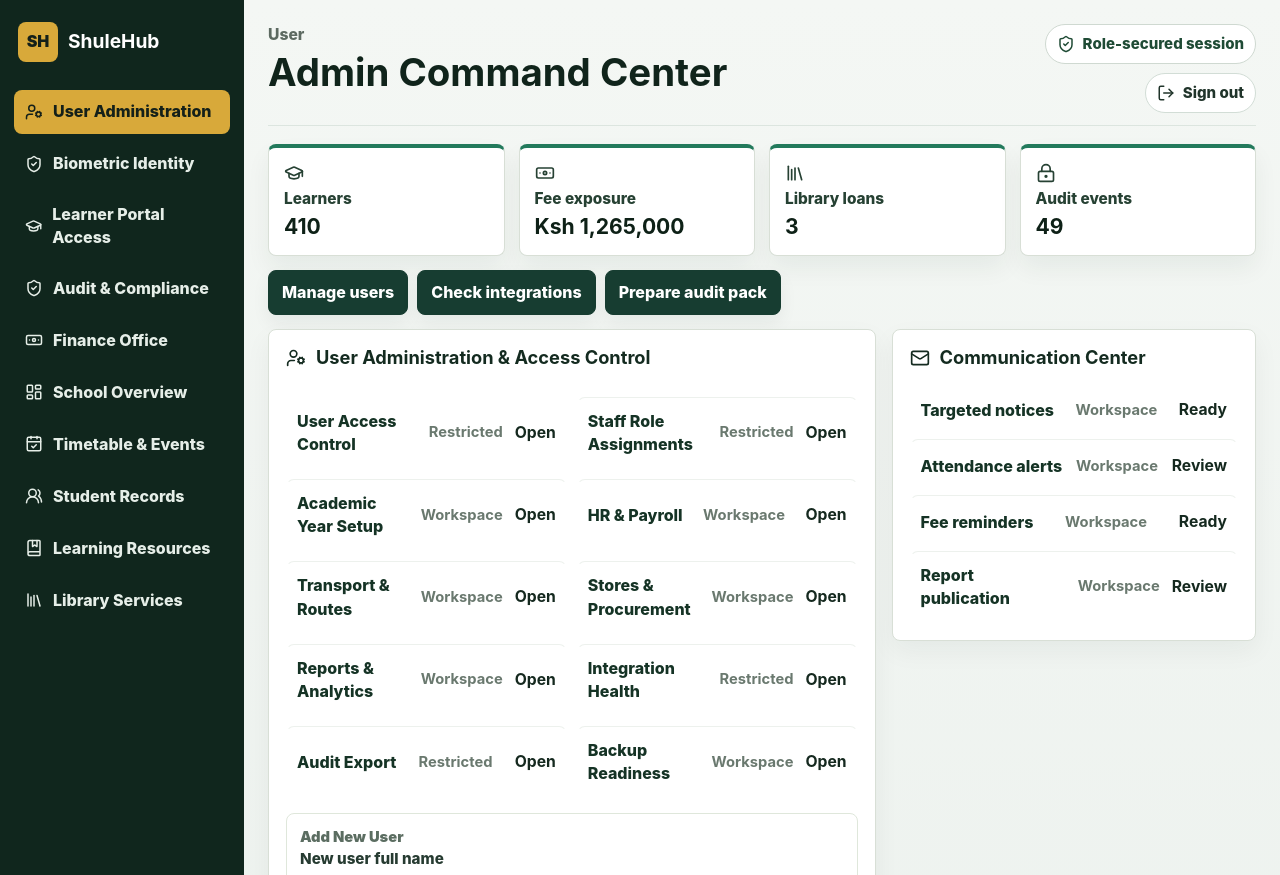
Scenario: App › admin workflow pages expose a complete controlled access process
What coordinates should you click on to do the following:
click the button "Manage users"
I would click on:
 (338, 292)
Its box is [268, 270, 408, 315].
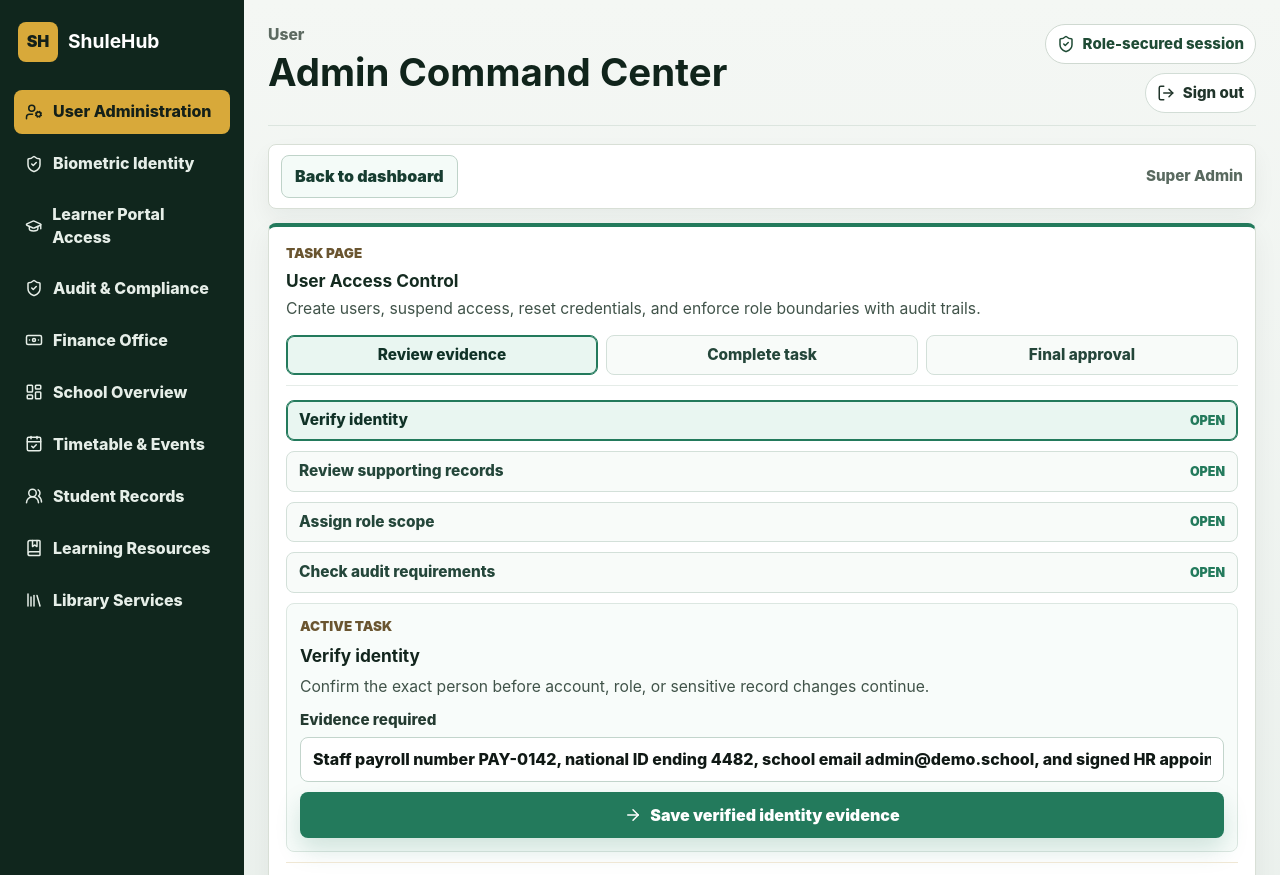
Check: the heading "User Access Control" is shown, box [286, 270, 458, 291]
Check: the button "Verify identity" is shown, box [286, 400, 1238, 441]
Check: the button "Assign role scope" is shown, box [286, 502, 1238, 542]
What coordinates should you click on to do the following:
click the tab "Complete task"
I would click on:
 (762, 355)
Its box is [606, 335, 918, 375].
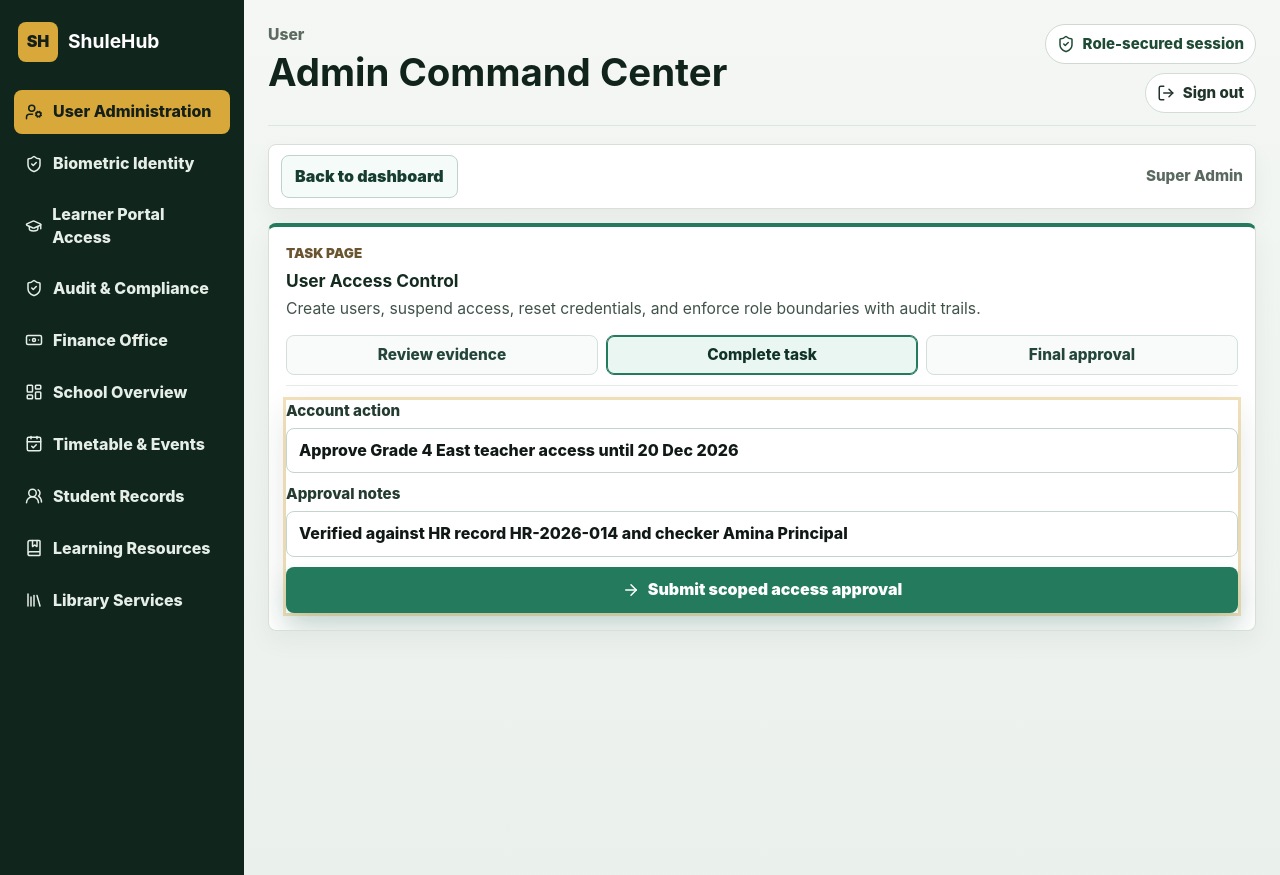
Check: the text "Account action" is shown, box [286, 401, 400, 420]
What coordinates should you click on to do the following:
click the button "Submit scoped access approval"
I would click on:
 (762, 590)
Its box is [286, 566, 1238, 612].
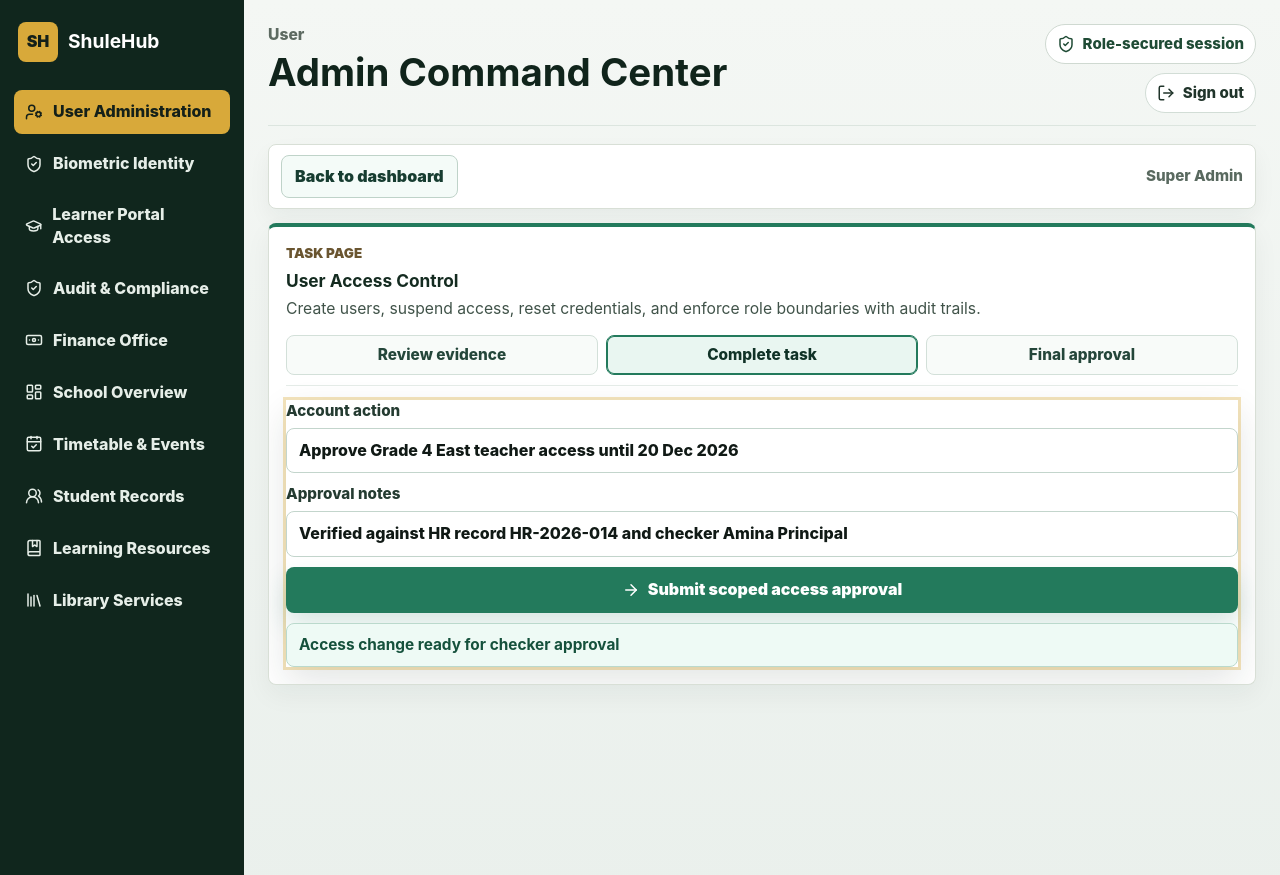
Check: the text "Access change ready for checker approval" is shown, box [286, 622, 1238, 667]
